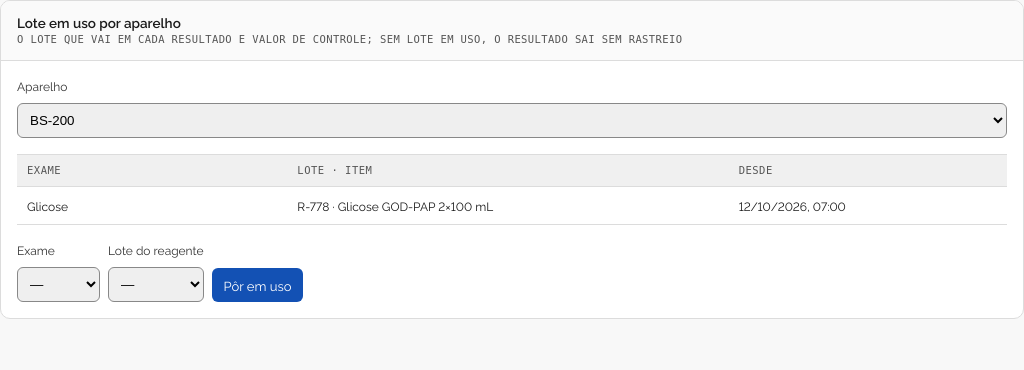
Scenario: InUsePanel › o mesmo lote de novo (C-E6): diz que já estava em uso, sem falar em encerrar o anterior
The image size is (1024, 370).
Expected: the text "R-778 · Glicose GOD-PAP 2×100 mL" is shown, 297,197 -> 493,214
Select "Glicose" in the dropdown labelled "Exame" at (58, 284), box 17,267 -> 100,302
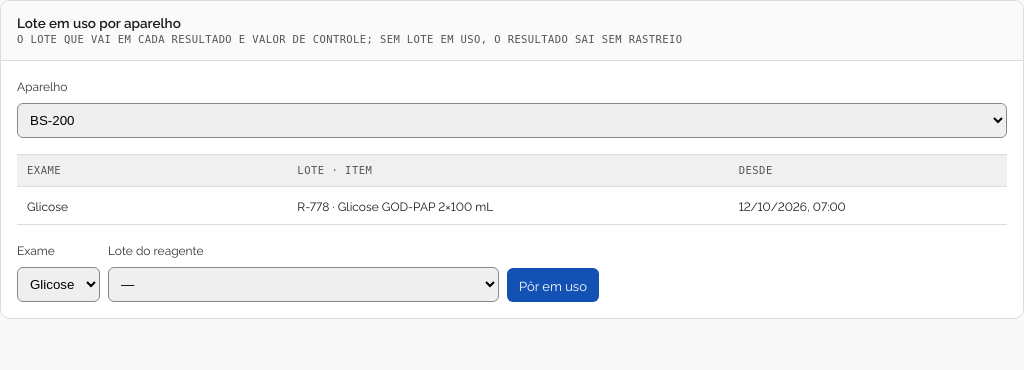
Select "R-778 · Glicose GOD-PAP 2×100 mL · validade 31/01/2027" in the dropdown labelled "Lote do reagente" at (304, 284), box 108,267 -> 499,302
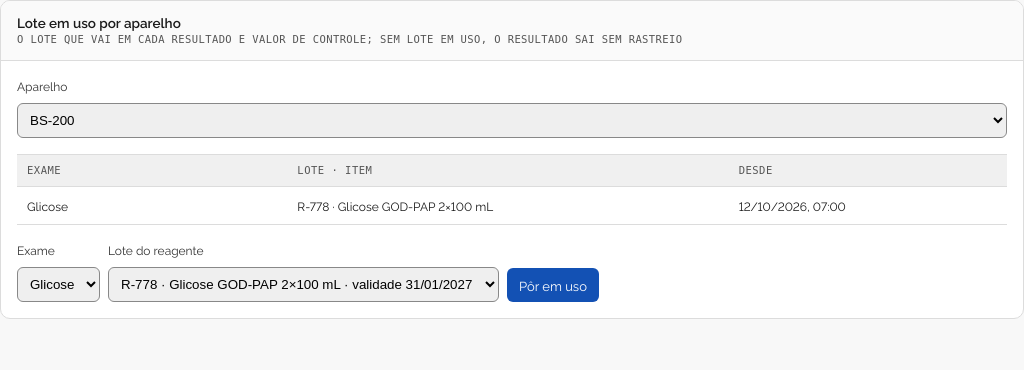
Click the button "Pôr em uso" at (553, 285), box 507,268 -> 599,302
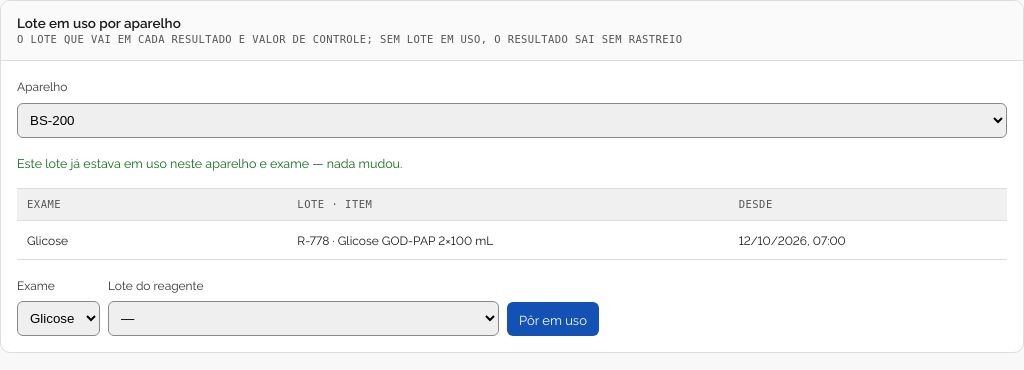
Expected: the text "Este lote já estava em uso neste aparelho e exame — nada mudou." is shown, 17,154 -> 402,171
